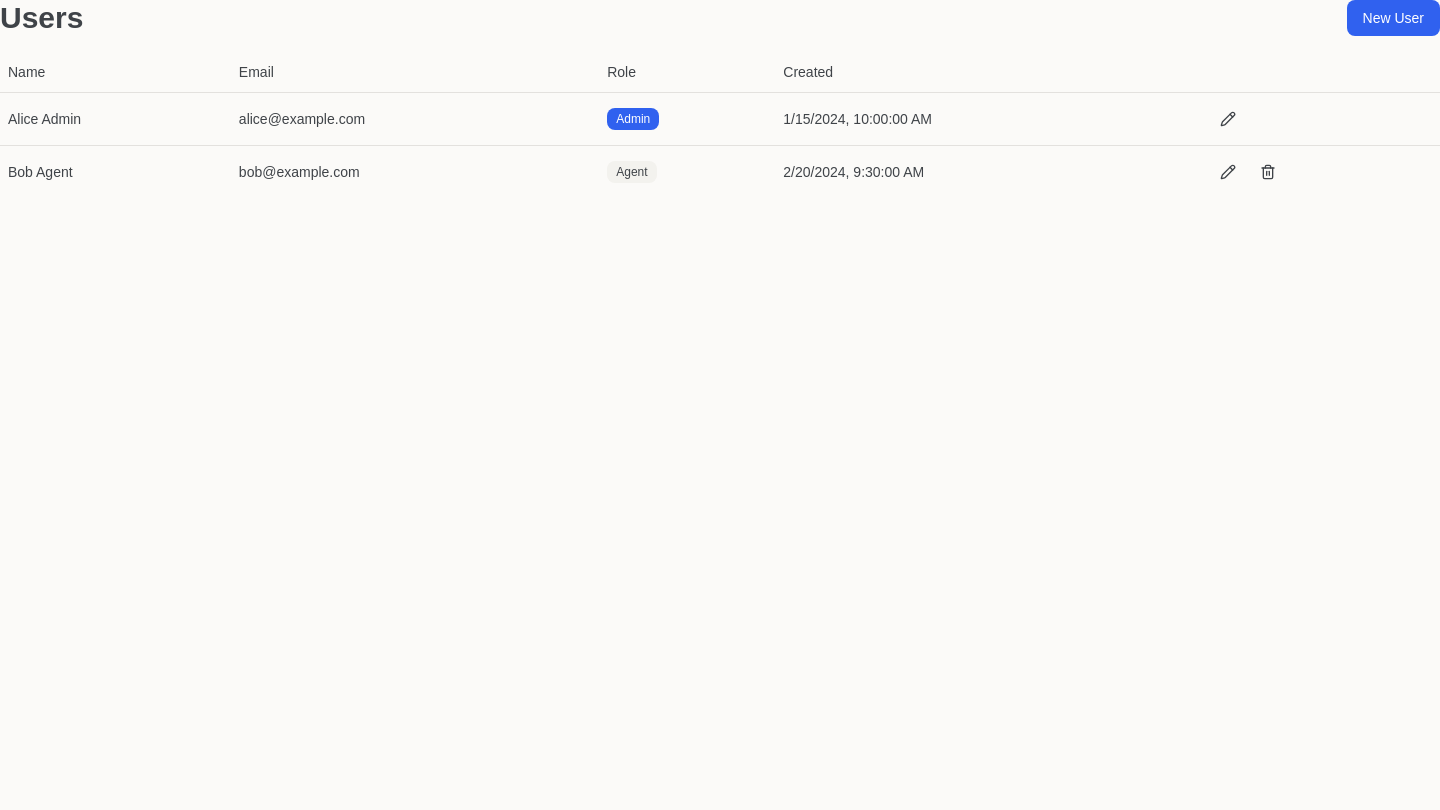
Scenario: UsersPage › Edit User modal › opens the Edit User dialog with correct title
Check: the text "Alice Admin" is shown, box [0,92,231,145]
Step 1. Click the button named "edit alice admin" → [1228, 118], box [1210,100,1246,136]
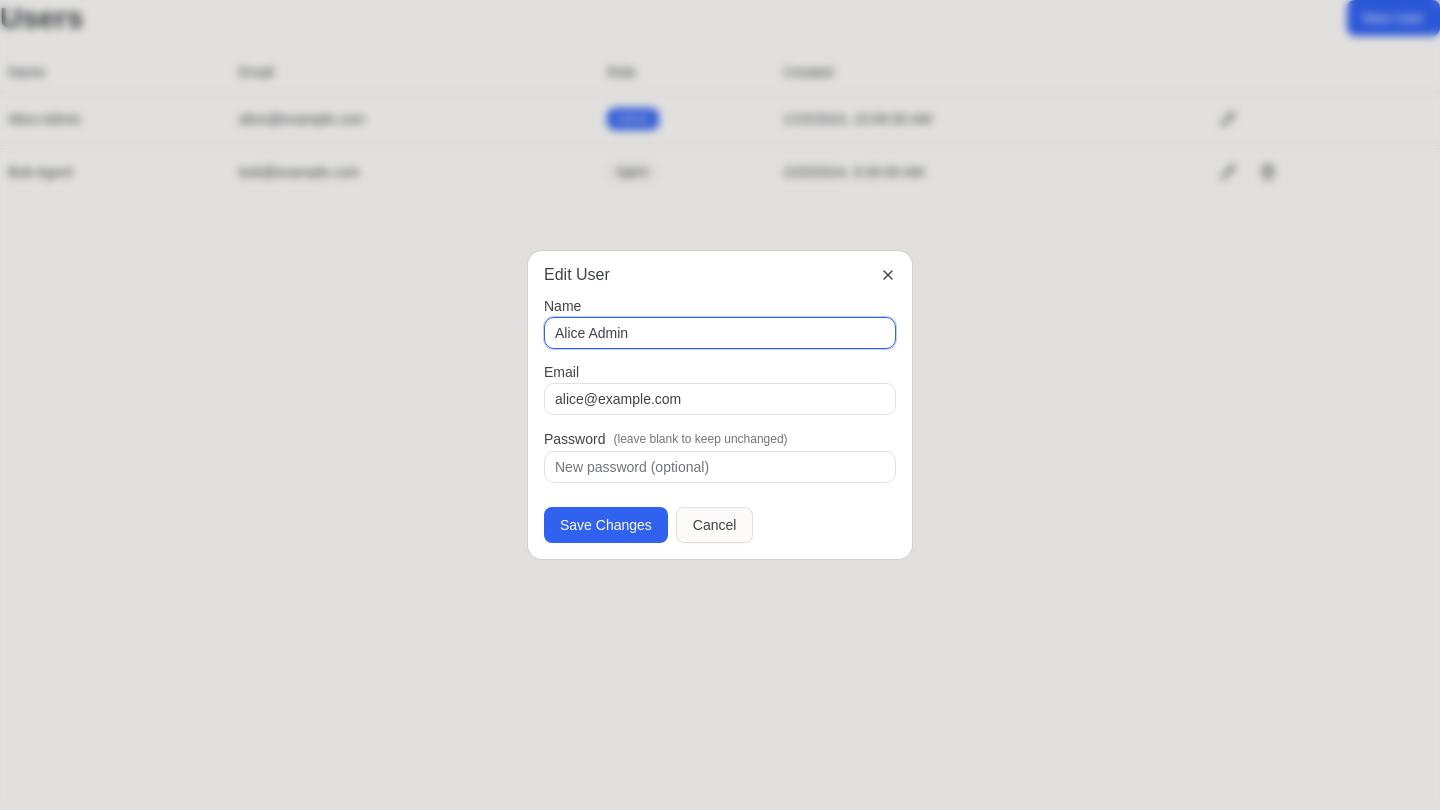
Check: the dialog is shown, box [528,251,912,559]
Check: the heading "Edit User" is shown, box [544,266,610,283]
